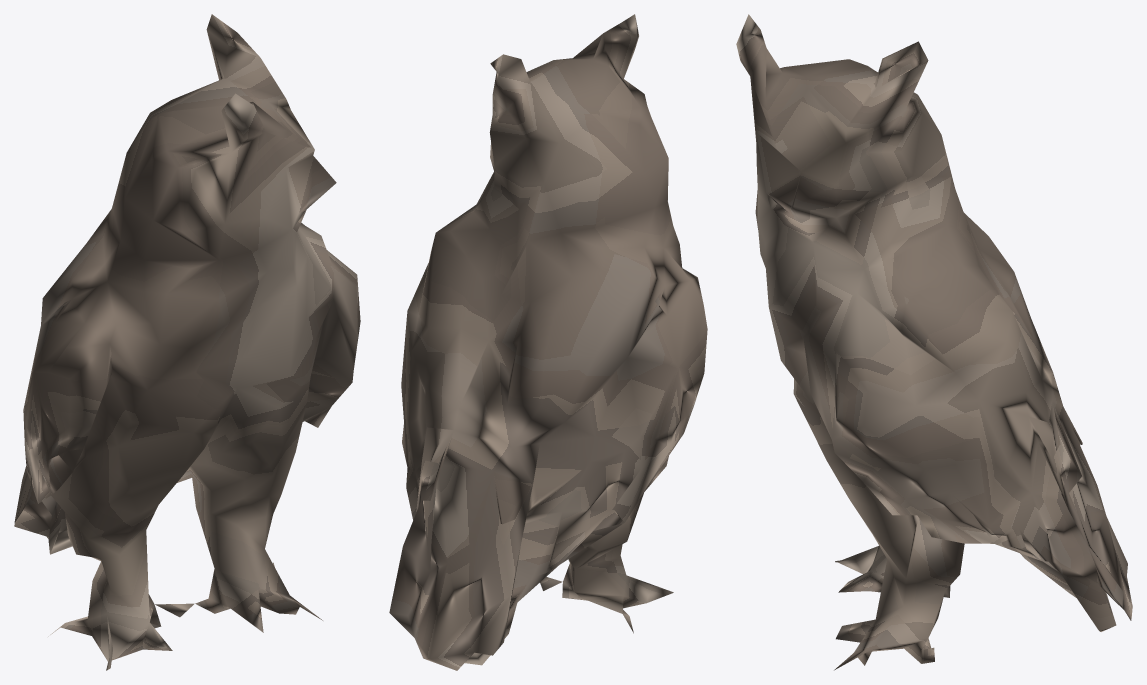
The model's file is sa_owl.glb.
3 views of the same model, side by side, from view 1: azimuth 30°, elevation 25°; view 2: azimuth 150°, elevation 25°; view 3: azimuth 270°, elevation 25° (orthographic). The views are drawn at different scales.
Parts seen in each view (by area): view 1: sa_owl; view 2: sa_owl; view 3: sa_owl.
Boxes of the visible parts, x1=… form: sa_owl: x1=14, y1=14, x2=360, y2=670; sa_owl: x1=389, y1=14, x2=707, y2=670; sa_owl: x1=736, y1=14, x2=1132, y2=670.
Size of the model in its own units: 0.5214 by 0.9792 by 0.589.
1 material, 1 textured.
